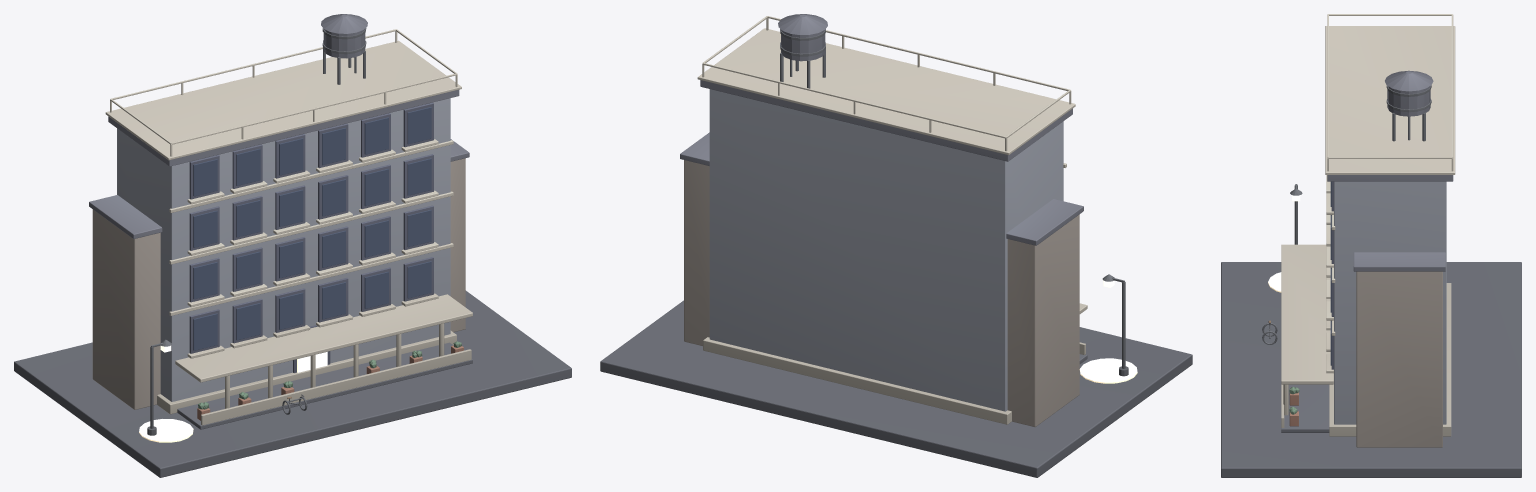
File: dorm_v3.glb
3 views of the same model, side by side, from view 1: azimuth 30°, elevation 25°; view 2: azimuth 150°, elevation 25°; view 3: azimuth 270°, elevation 25° (orthographic). The views are drawn at different scales.
Parts seen in each view (by area): view 1: Dorm_Body, Diorama_Base, Roof_Trim, Dorm_Wing_L, Corridor_Canopy, Corridor_Floor, Corridor_Parapet, Dorm_Plinth, Dorm_Wing_R, Roof_Slab, Wing_Cap_L, Floor_Band_2 (+31 smaller); view 2: Dorm_Body, Diorama_Base, Roof_Trim, Dorm_Wing_L, Dorm_Wing_R, Dorm_Plinth, Roof_Slab, Wing_Cap_L, Lamp_Glow_Pool, Tower_Tank, Roof_Rail_Back, Tower_Lid (+1 smaller); view 3: Diorama_Base, Roof_Trim, Dorm_Wing_R, Dorm_Body, Corridor_Canopy, Wing_Cap_R, Corridor_Floor, Dorm_Plinth, Tower_Tank, Roof_Slab, Tower_Lid, Roof_Rail_Back.
Part boxes in pixels (x1,y1,x2,y2): Dorm_Body: (117,98,450,401); Diorama_Base: (14,290,571,477); Roof_Trim: (105,40,461,160); Dorm_Wing_L: (92,209,160,409); Corridor_Canopy: (175,294,472,382); Corridor_Floor: (177,342,472,429); Corridor_Parapet: (201,349,471,425); Dorm_Plinth: (157,330,456,414); Dorm_Wing_R: (450,158,465,332); Roof_Slab: (108,90,459,166); Wing_Cap_L: (89,195,162,238); Floor_Band_2: (169,191,453,264); Dorm_Body: (709,89,1063,411); Diorama_Base: (600,300,1192,477); Roof_Trim: (697,28,1075,155); Dorm_Wing_L: (1007,214,1079,426); Dorm_Wing_R: (684,160,709,345); Dorm_Plinth: (703,337,1011,424); Roof_Slab: (700,80,1072,161); Wing_Cap_L: (1006,199,1083,245); Lamp_Glow_Pool: (1079,358,1137,383); Tower_Tank: (781,30,825,61); Roof_Rail_Back: (703,63,1006,138); Tower_Lid: (778,14,827,34); Diorama_Base: (1221,262,1521,477); Roof_Trim: (1325,26,1455,174); Dorm_Wing_R: (1356,271,1442,447); Dorm_Body: (1334,181,1446,424); Corridor_Canopy: (1281,244,1333,384); Wing_Cap_R: (1353,252,1445,271); Corridor_Floor: (1281,384,1329,432); Dorm_Plinth: (1329,283,1451,436); Tower_Tank: (1387,86,1430,116); Roof_Slab: (1327,175,1453,181); Tower_Lid: (1385,70,1433,91); Roof_Rail_Back: (1451,14,1453,157).
Size of the model in its own units: 26 by 19.8 by 16.
